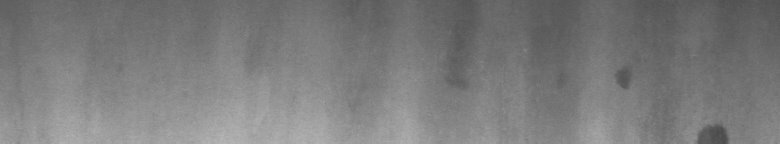fi: (693, 116, 733, 136)
